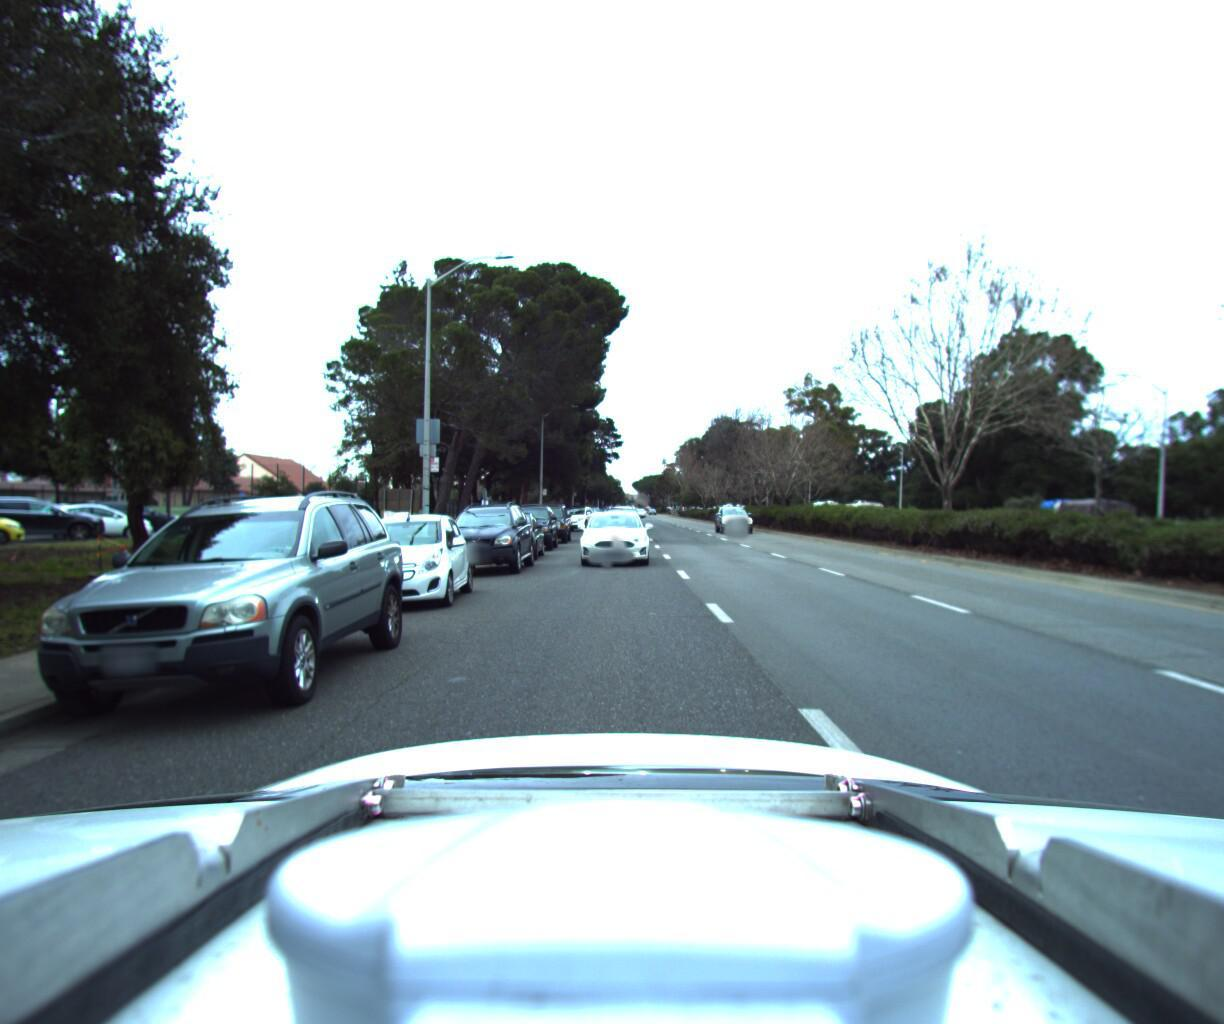car: (0, 471, 417, 752), (335, 507, 477, 610), (429, 493, 536, 579), (578, 504, 650, 564), (474, 504, 547, 559), (499, 495, 561, 545), (521, 493, 571, 538), (713, 498, 756, 528), (553, 498, 597, 523)
other_vehicle: (1028, 487, 1140, 548)
